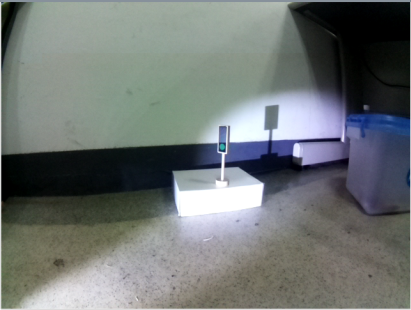Green: (213, 124, 231, 156)
